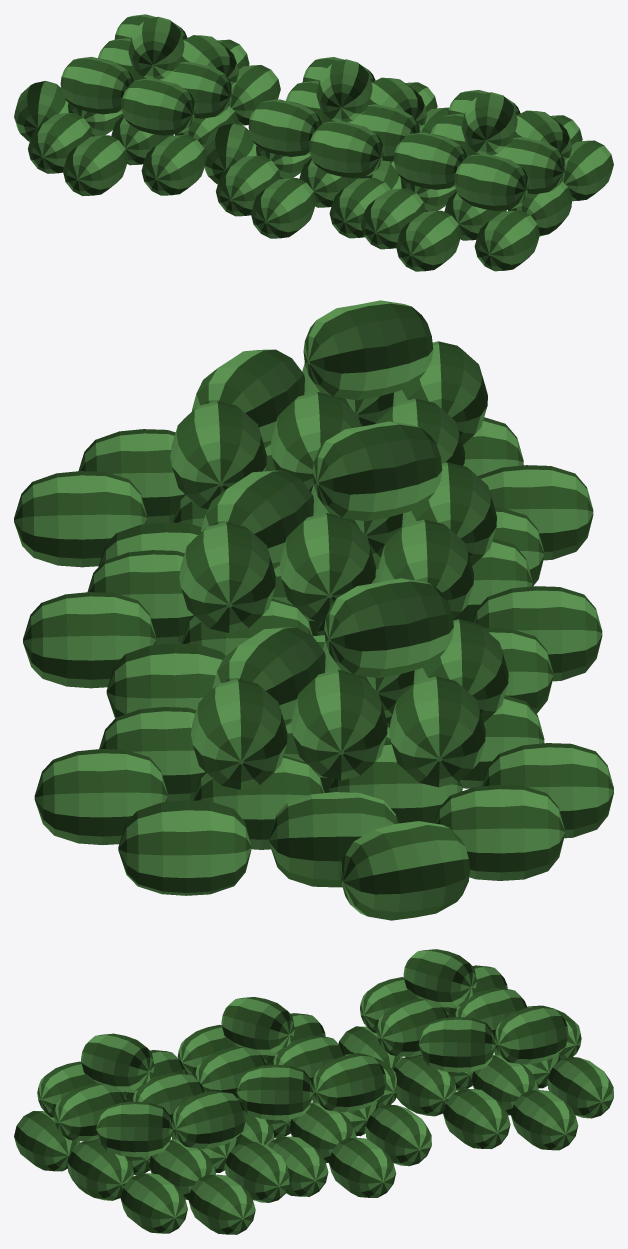
File: Watermelongroup.gltf
3 renders of one model, top to bottom at view 1: azimuth 30°, elevation 25°; view 2: azimuth 150°, elevation 25°; view 3: azimuth 270°, elevation 25°, orthographic. The views are drawn at different scales.
Visible parts, largest first — view 1: node_Watermelongroup_-21452; view 2: node_Watermelongroup_-21452; view 3: node_Watermelongroup_-21452.
Boxes of the visible parts, left/top/right/bottom form: node_Watermelongroup_-21452: left=14, top=14, right=613, bottom=271; node_Watermelongroup_-21452: left=14, top=300, right=613, bottom=920; node_Watermelongroup_-21452: left=14, top=949, right=613, bottom=1234.
Size of the model in its own units: 1.15 by 0.351 by 1.39.
